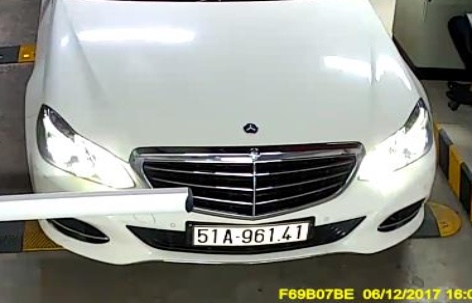plate: (187, 215, 318, 256)
